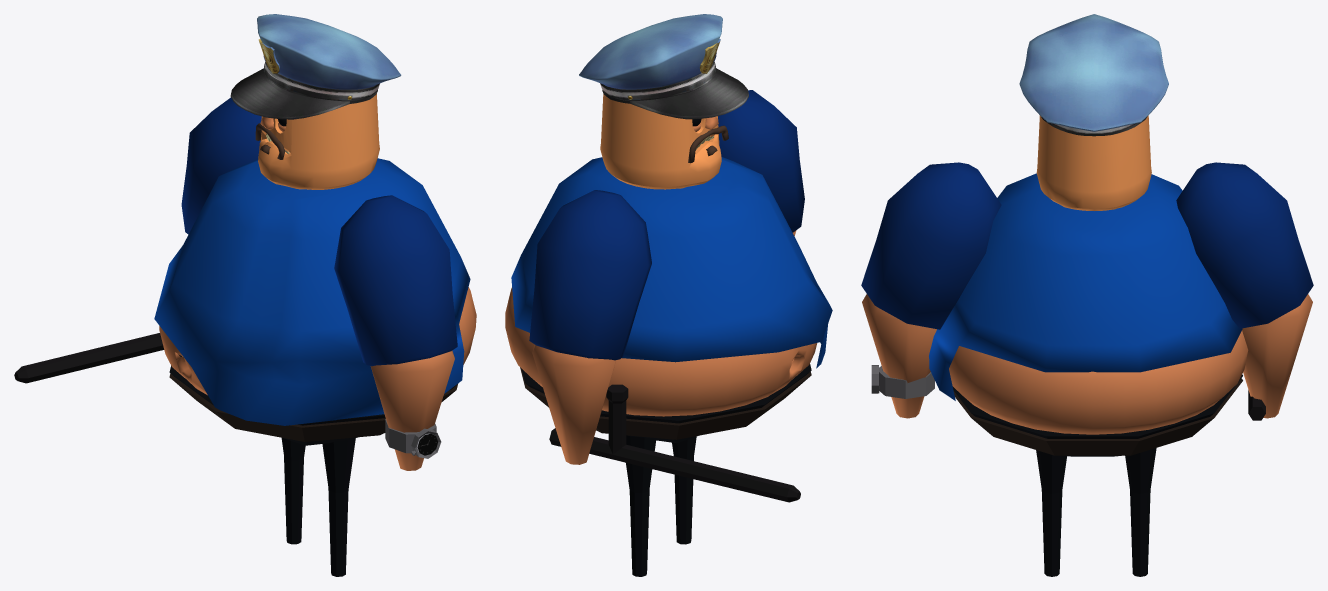
File: bar.fbx
3 renders of one model, left to right at view 1: azimuth 30°, elevation 25°; view 2: azimuth 150°, elevation 25°; view 3: azimuth 270°, elevation 25°, orthographic.
Parts seen in each view (by area): view 1: Shirt1, Eyelids8, Handle1, Head1, Eyelids1, Eyelids10, Eyelids4, Meshesbaton1, Weight1, Eyelids2, Eyelids7, Eyelids9 (+2 smaller); view 2: Shirt1, Eyelids1, Handle1, Weight1, Head1, Eyelids8, Eyelids5, Meshesbaton1, Eyelids4, Trows1, Eyelids2, Eyelids7 (+2 smaller); view 3: Shirt1, Weight1, Eyelids8, Eyelids1, Handle1, Head1, Eyelids5, Eyelids10, Eyelids4, Trows1, Eyelids2, Eyelids7 (+3 smaller).
Boxes of the visible parts, <box> form: Shirt1: <box>154,158,470,425</box>; Eyelids8: <box>334,195,457,366</box>; Handle1: <box>230,14,401,119</box>; Head1: <box>258,93,379,189</box>; Eyelids1: <box>181,97,261,234</box>; Eyelids10: <box>370,350,454,470</box>; Eyelids4: <box>169,373,458,441</box>; Meshesbaton1: <box>14,333,164,383</box>; Weight1: <box>159,287,476,395</box>; Eyelids2: <box>284,456,303,544</box>; Eyelids7: <box>328,488,348,576</box>; Eyelids9: <box>322,438,355,492</box>; Shirt1: <box>511,156,832,368</box>; Eyelids1: <box>529,190,651,360</box>; Handle1: <box>579,14,748,119</box>; Weight1: <box>505,287,817,416</box>; Head1: <box>600,94,721,189</box>; Eyelids8: <box>718,90,804,232</box>; Eyelids5: <box>532,345,616,464</box>; Meshesbaton1: <box>549,384,800,502</box>; Eyelids4: <box>520,367,811,439</box>; Trows1: <box>521,364,811,443</box>; Eyelids2: <box>629,489,649,576</box>; Eyelids7: <box>674,456,693,544</box>; Shirt1: <box>929,173,1242,400</box>; Weight1: <box>949,331,1248,434</box>; Eyelids8: <box>861,162,1001,329</box>; Eyelids1: <box>1176,162,1313,328</box>; Handle1: <box>1019,14,1168,136</box>; Head1: <box>1036,115,1151,210</box>; Eyelids5: <box>1242,294,1312,418</box>; Eyelids10: <box>862,294,936,418</box>; Eyelids4: <box>953,378,1242,455</box>; Trows1: <box>952,374,1242,456</box>; Eyelids2: <box>1130,490,1150,576</box>; Eyelids7: <box>1041,490,1062,576</box>.
Size of the model in its own units: 6.68 by 9.65 by 7.41.
